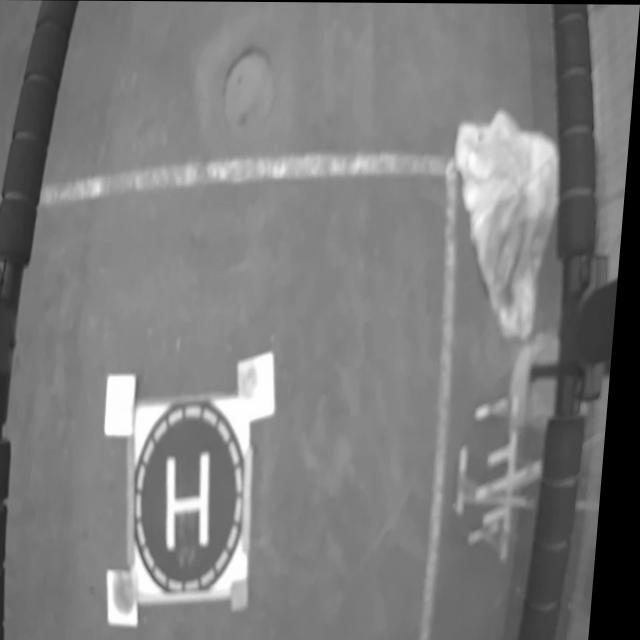Helipad: (173, 451, 219, 550)
